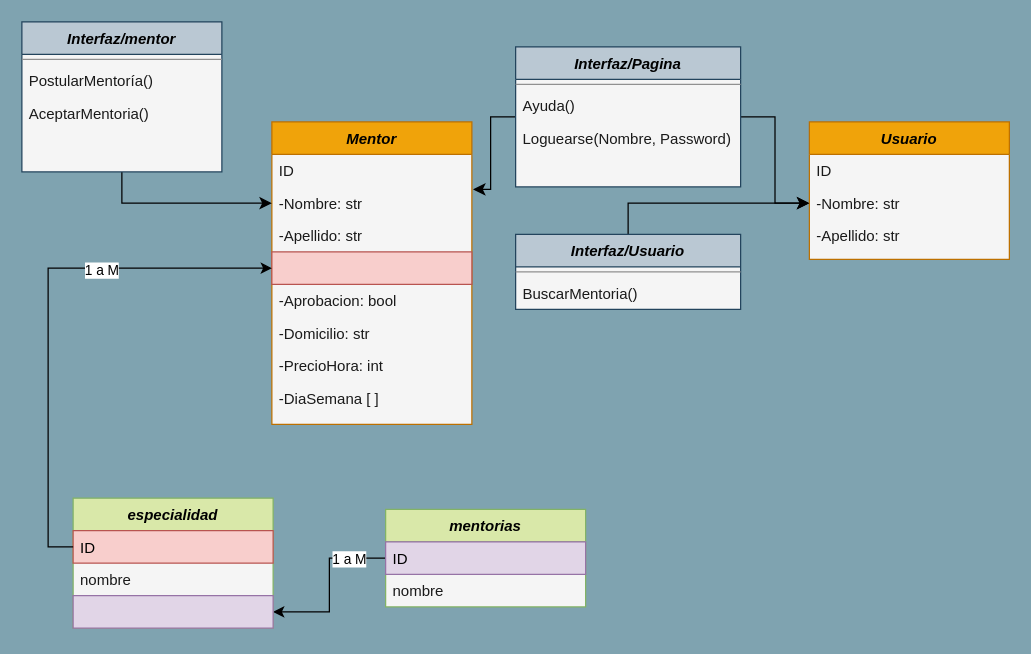
Some shapes in this 1031 by 654 pixel diagram are drawn without their labels. The centre of each missing label's shape, as x and y in pixels:
"idesp" goes at (x=371, y=267).
"idmen" goes at (x=172, y=611).
